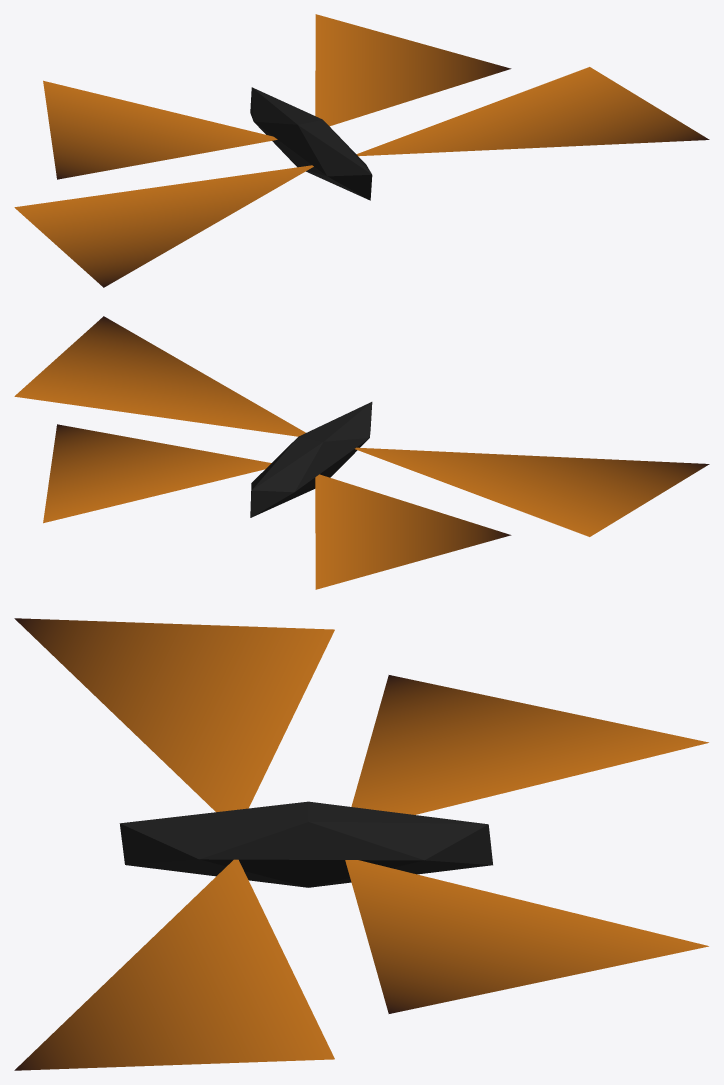
File: butterfly_orange.glb
The picture shows the model from 3 angles, top to bottom: view 1: azimuth 30°, elevation 25°; view 2: azimuth 150°, elevation 25°; view 3: azimuth 270°, elevation 25°; orthographic projection. The views are drawn at different scales.
Parts seen in each view (by area): view 1: butterfly_orange_wing, butterfly_orange_solid; view 2: butterfly_orange_wing, butterfly_orange_solid; view 3: butterfly_orange_wing, butterfly_orange_solid.
Part boxes in pixels (left/top/right/bottom): butterfly_orange_wing: left=14, top=14, right=709, bottom=287; butterfly_orange_solid: left=250, top=87, right=372, bottom=200; butterfly_orange_wing: left=14, top=316, right=709, bottom=589; butterfly_orange_solid: left=250, top=402, right=372, bottom=517; butterfly_orange_wing: left=14, top=618, right=708, bottom=1070; butterfly_orange_solid: left=119, top=801, right=492, bottom=887.
Size of the model in its own units: 0.15 by 0.0103 by 0.0975.
